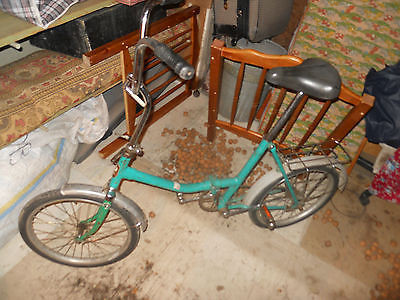bicycle: (17, 2, 353, 268)
